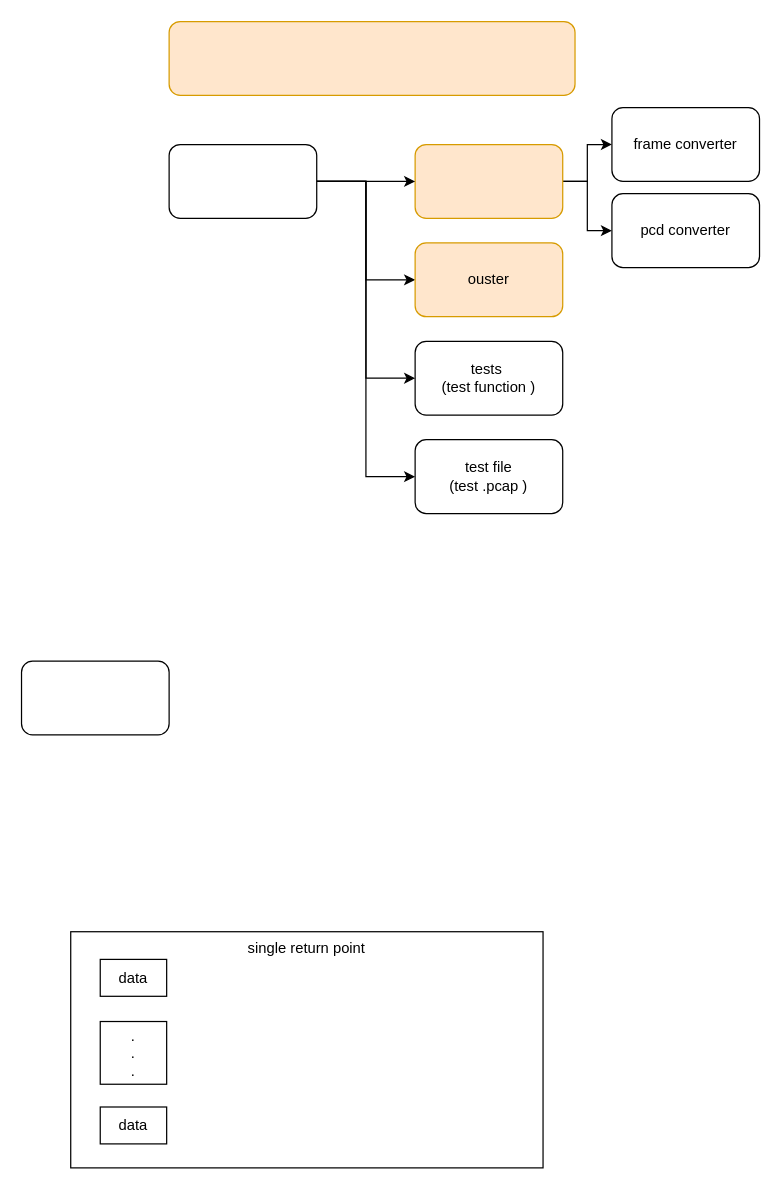
Image size: 781x1189. Some labels were removed from this diagram. Here are the shapes that lost their labels. From the top down, the centre of each, then its label:
(x=371, y=57): doc : https://docs.rs/lidar-utils/latest/lidar_utils/
(x=242, y=180): rust-lidar-utils
(x=488, y=180): velodyne
(x=94, y=697): data packet
